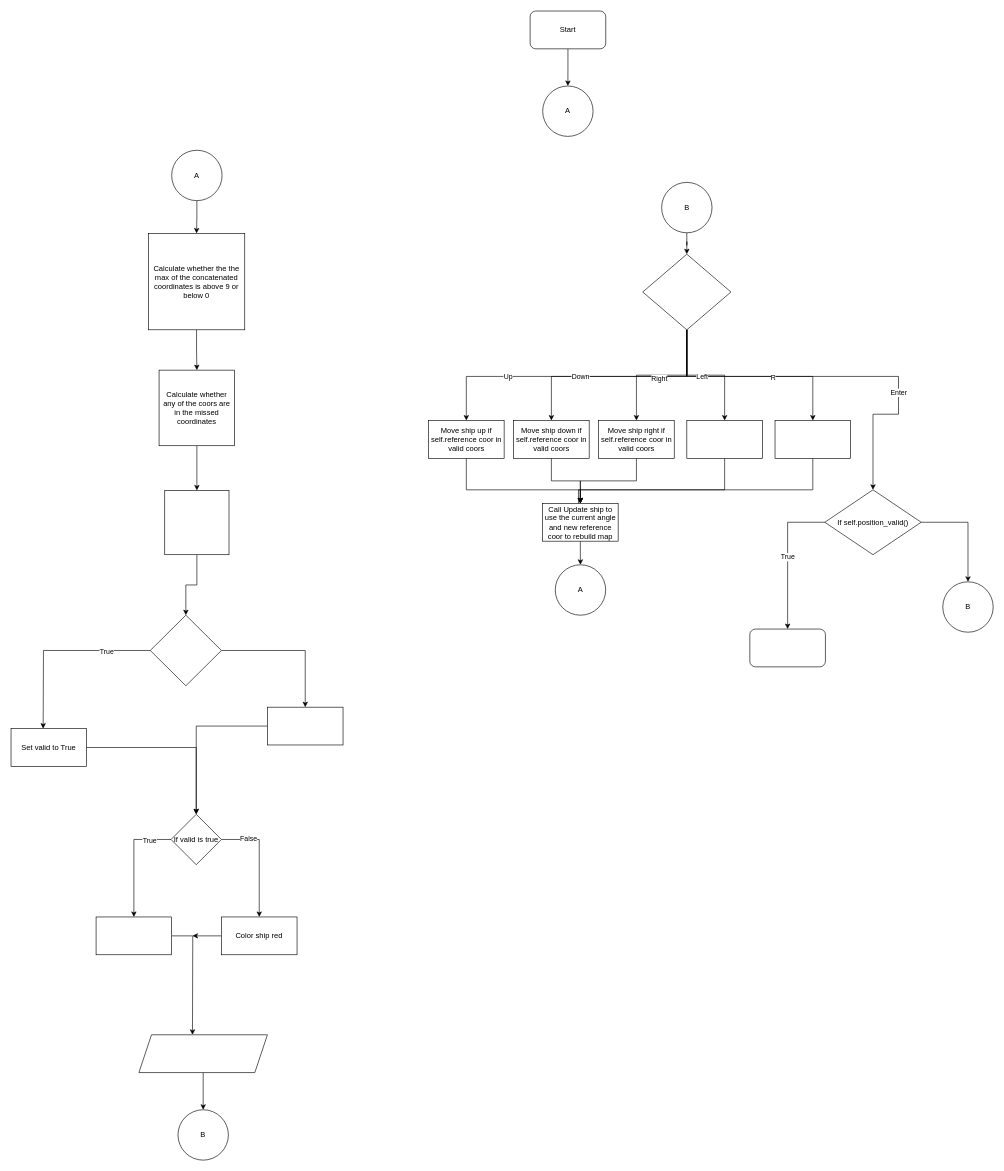
The diagram is 1004 pixels wide and 1171 high, and some of its shapes have lost their labels. The box of each missing label's shape, as (x1, y1, x2, y2) in pixels:
Calculate if any of the coors are in the already taken coors of other ships: (164, 490, 229, 555)
Color ship green: (95, 916, 172, 955)
Display colored board to user: (138, 1034, 267, 1073)
End: (749, 628, 825, 667)
If any of the above are True: (150, 615, 221, 686)
Move ship left if self.reference coor in valid coors: (686, 420, 762, 458)
Read key: (642, 254, 731, 330)
Rotate ship around reference coor: (774, 420, 851, 458)
Set valid to False: (267, 707, 343, 745)
